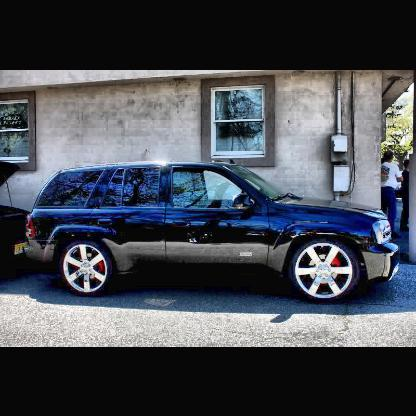Chevrolet TrailBlazer SS 2009: (26, 160, 403, 309)
